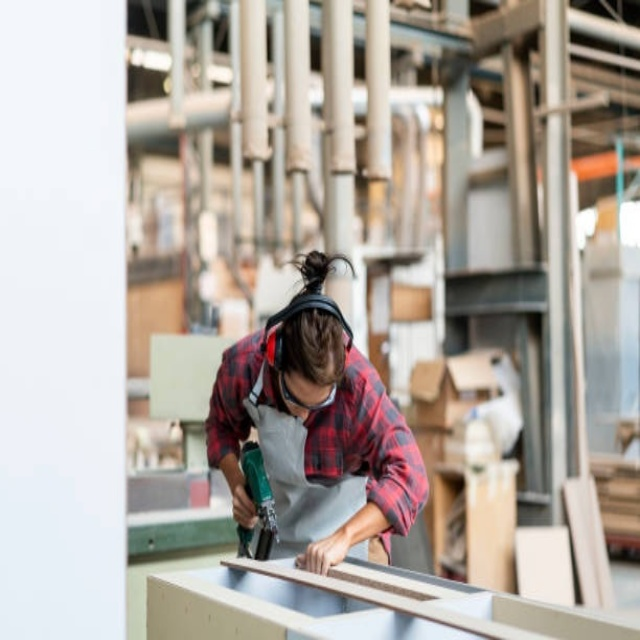Gafas: (279, 363, 340, 411)
Sin_guantes: (292, 537, 341, 576), (231, 480, 260, 529)
